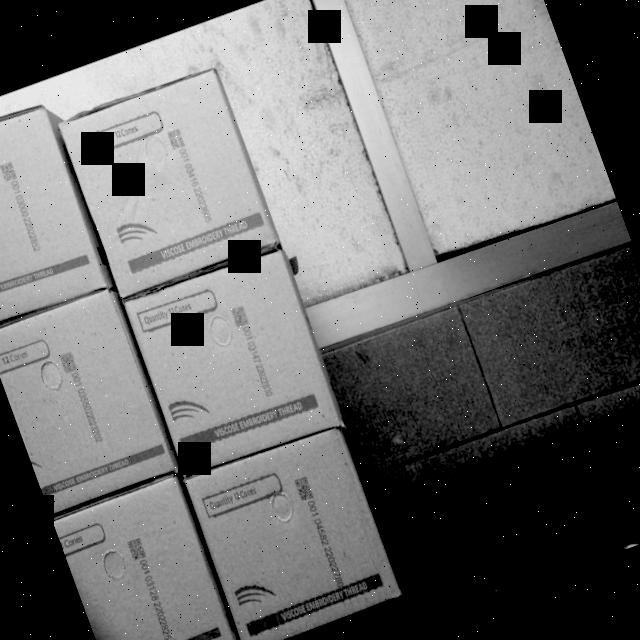box: (58, 62, 280, 298), (126, 241, 344, 476), (184, 419, 403, 640), (0, 274, 175, 511), (51, 471, 247, 640), (0, 87, 108, 328)
